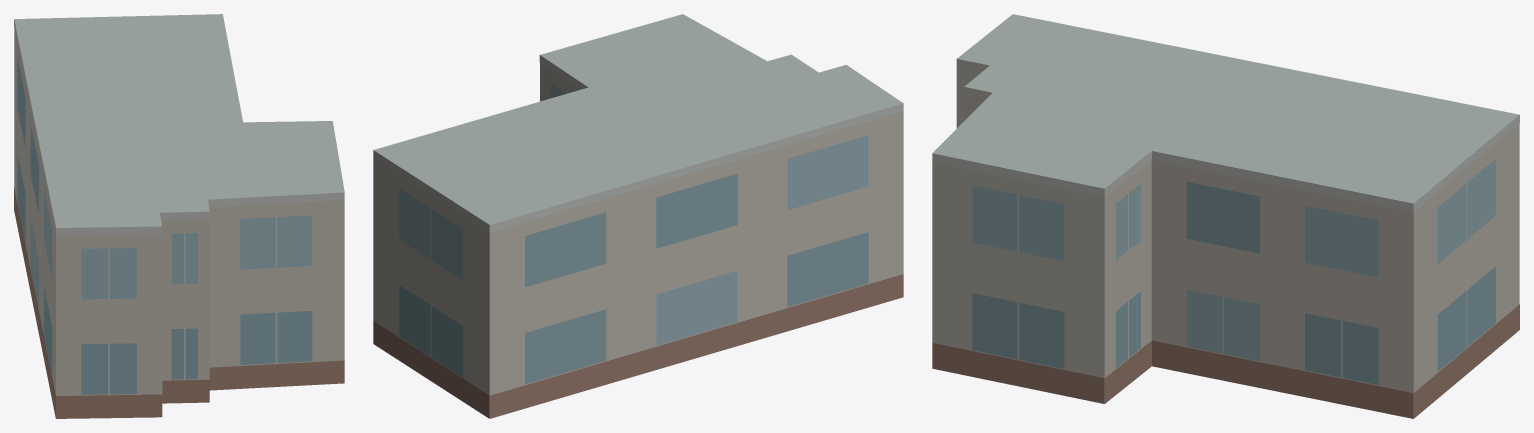
Rendered from survey-upis-32688836.glb.
3 views of the same model, side by side, from view 1: azimuth 30°, elevation 25°; view 2: azimuth 150°, elevation 25°; view 3: azimuth 270°, elevation 25° (orthographic). The views are drawn at different scales.
Visible parts, largest first — view 1: survey-upis-32688836.tmp; view 2: survey-upis-32688836.tmp; view 3: survey-upis-32688836.tmp.
Boxes of the visible parts, left/top/right/bottom form: survey-upis-32688836.tmp: left=14, top=14, right=344, bottom=418; survey-upis-32688836.tmp: left=373, top=14, right=903, bottom=418; survey-upis-32688836.tmp: left=932, top=14, right=1519, bottom=418.
Size of the model in its own units: 11.53 by 6.1 by 15.09.
